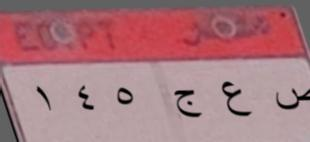1: (31, 80, 57, 115)
4: (75, 78, 96, 116)
5: (108, 85, 139, 109)
ain: (217, 77, 252, 123)
jeem: (173, 85, 202, 122)
saad: (271, 80, 310, 112)
